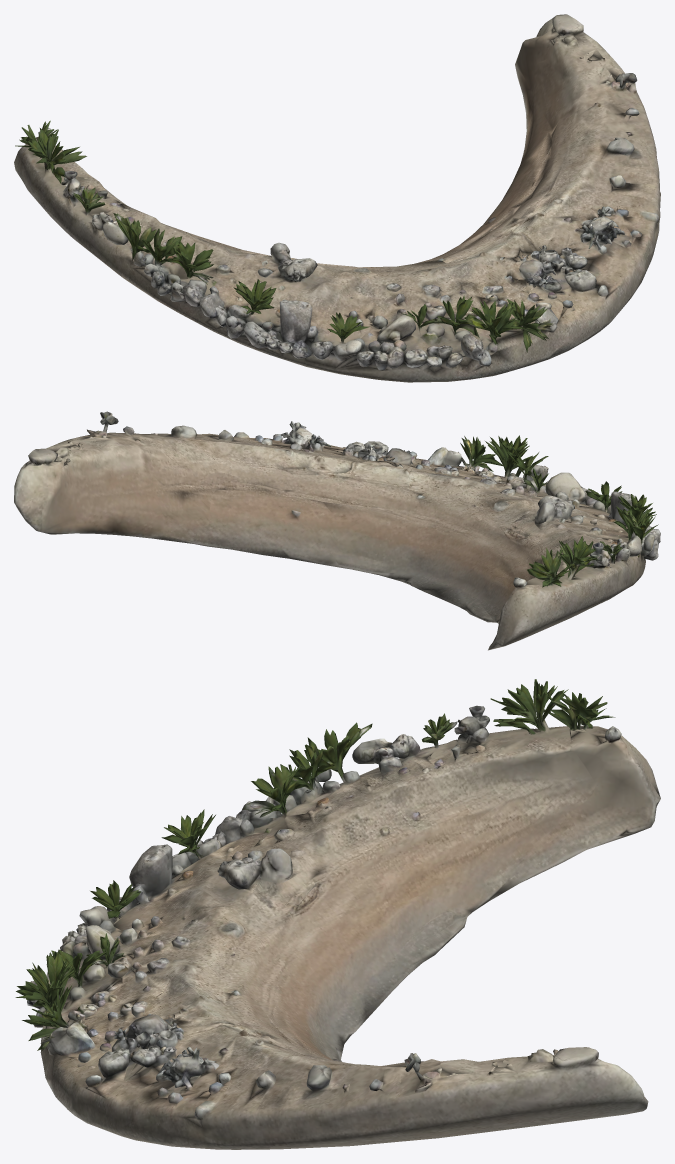
The model's file is coral-strand.glb.
3 renders of one model, top to bottom at view 1: azimuth 30°, elevation 25°; view 2: azimuth 150°, elevation 25°; view 3: azimuth 270°, elevation 25°, orthographic. The views are drawn at different scales.
Parts seen in each view (by area): view 1: tripo_node_5457116d-fcfe-4425-a6e8-b75ac8854980; view 2: tripo_node_5457116d-fcfe-4425-a6e8-b75ac8854980; view 3: tripo_node_5457116d-fcfe-4425-a6e8-b75ac8854980.
Boxes of the visible parts, bbox=[...] form: tripo_node_5457116d-fcfe-4425-a6e8-b75ac8854980: bbox=[14, 14, 660, 382]; tripo_node_5457116d-fcfe-4425-a6e8-b75ac8854980: bbox=[14, 411, 660, 650]; tripo_node_5457116d-fcfe-4425-a6e8-b75ac8854980: bbox=[15, 679, 660, 1149].
Size of the model in its own units: 0.979 by 0.2811 by 0.7478.
Materials: 1 (1 with a texture image).
